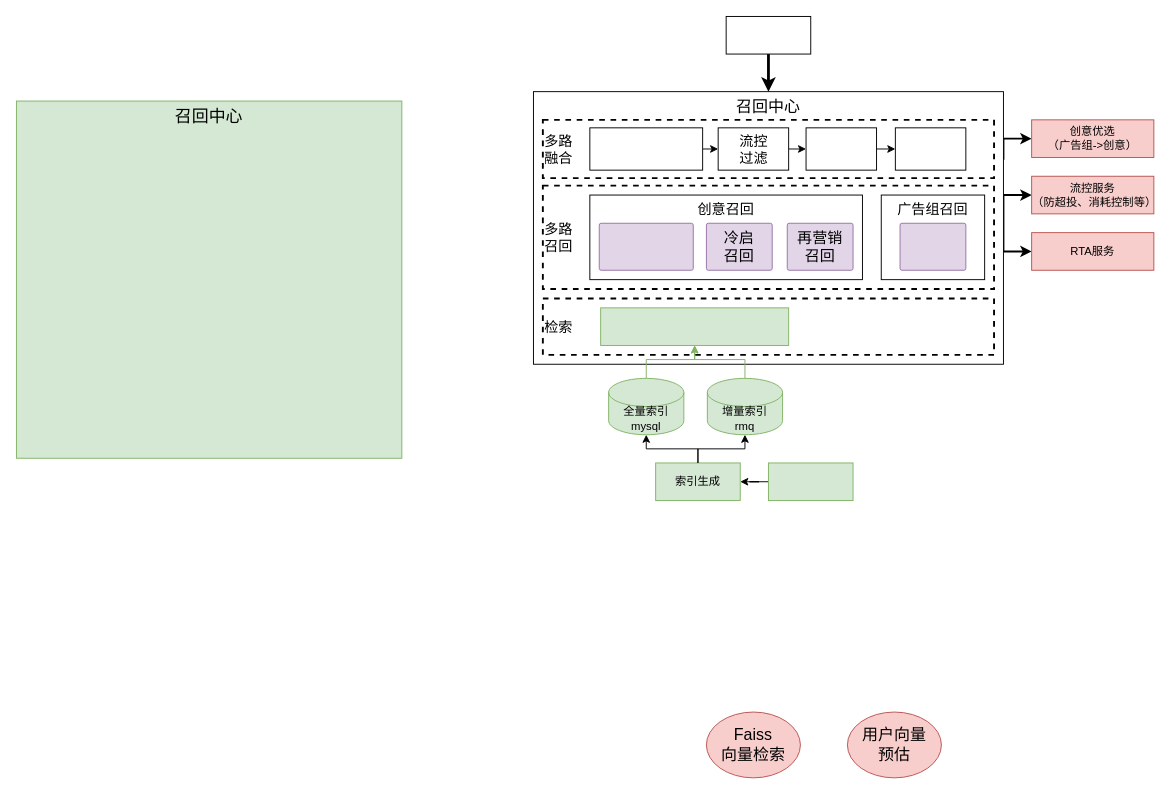
Image size: 1172x794. Some labels were removed from this diagram. Each missing label, with the centre of its shape:
"RTA过滤" belongs at point (930, 148).
"主路 模型召回" belongs at point (645, 246).
"发布系统" belongs at point (810, 481).
"多队列融合&截断" belongs at point (646, 148).
"广告组 召回" belongs at point (932, 246).
"投放引擎" belongs at point (768, 35).
"检索服务 或 检索组件（直投/通投库）" belongs at point (694, 326).
"比价 过滤" belongs at point (841, 148).
